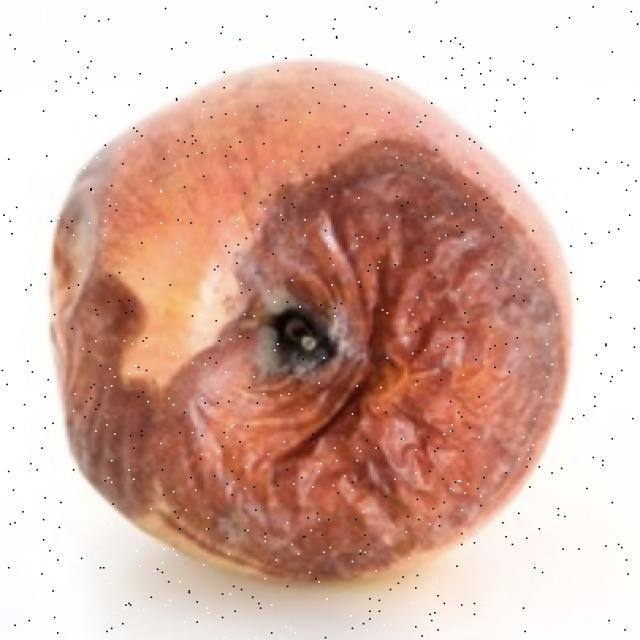Rotten: (64, 75, 554, 563)
